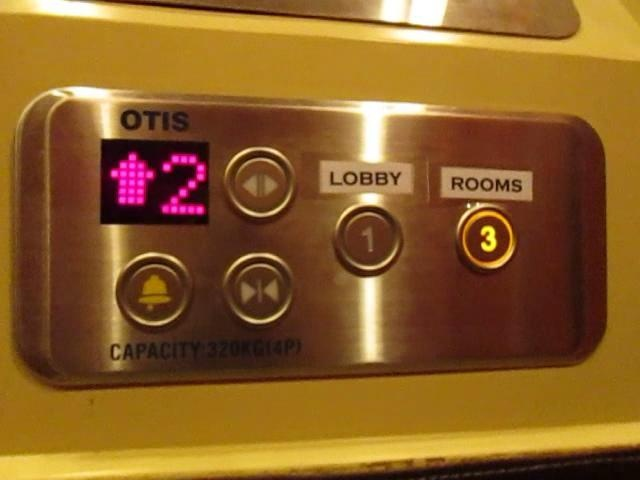1: (329, 200, 406, 282)
3: (450, 202, 522, 276)
alarm: (112, 250, 195, 333)
close: (216, 251, 296, 328)
led: (96, 135, 212, 227)
open: (221, 143, 300, 225)
